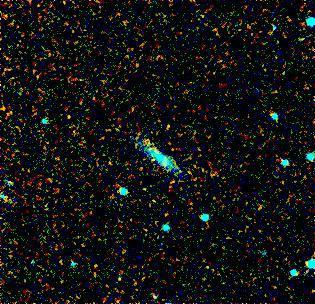star: (133, 125, 163, 155)
